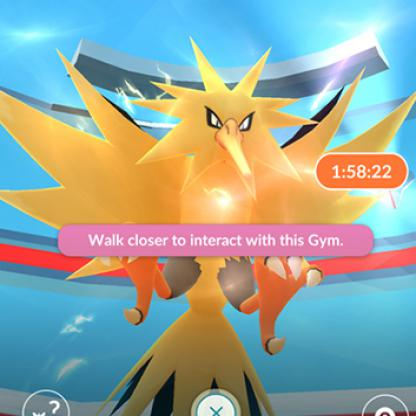Zapdos: (1, 38, 416, 416)
